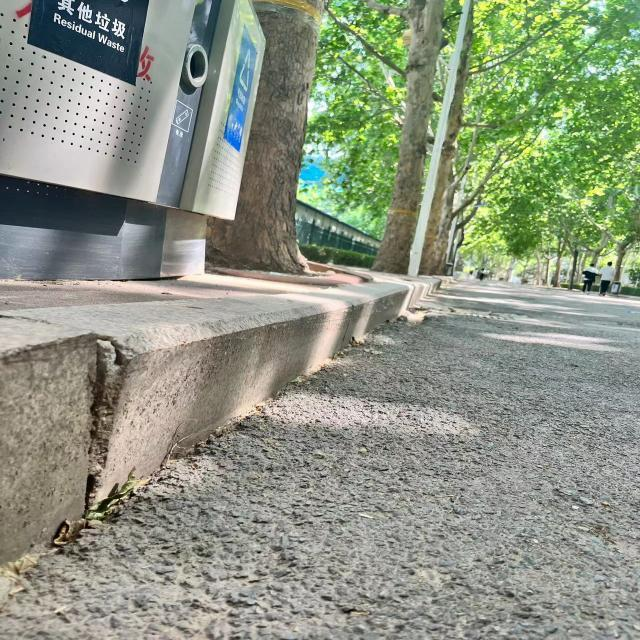bump: (0, 248, 439, 516)
